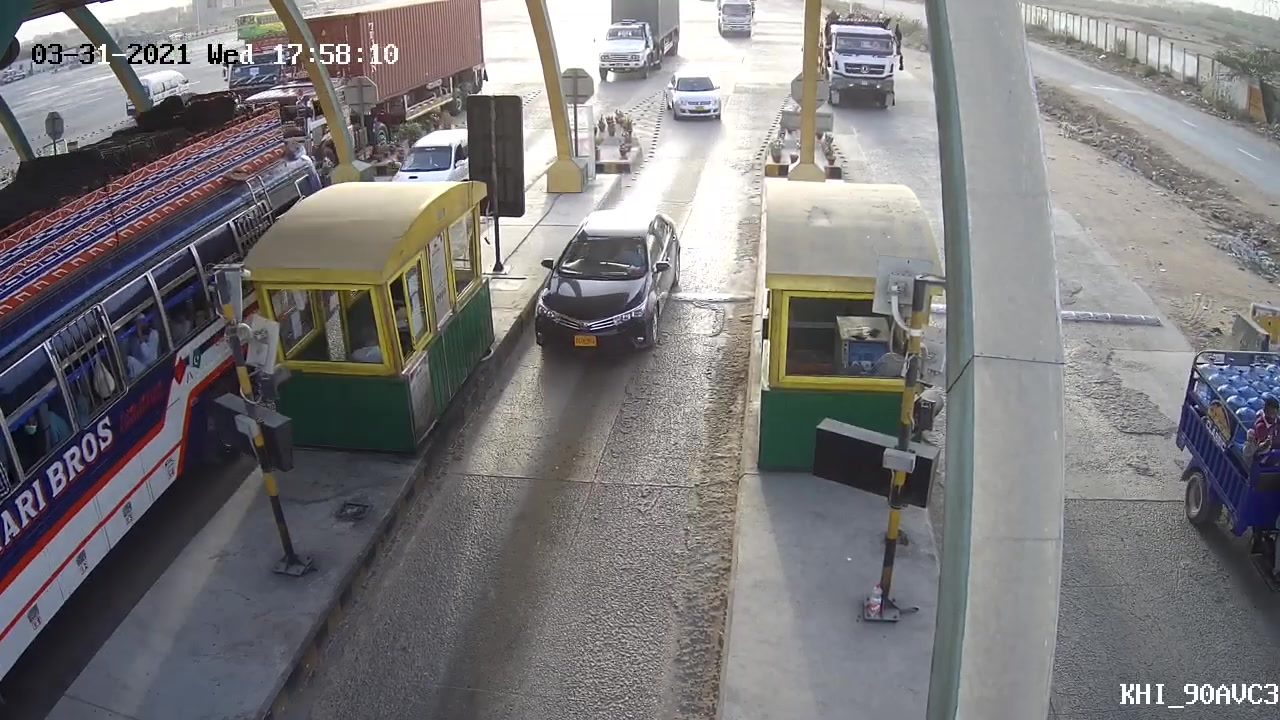F1: (523, 196, 692, 365)
